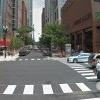Crosswalk: (7, 71, 94, 100)
